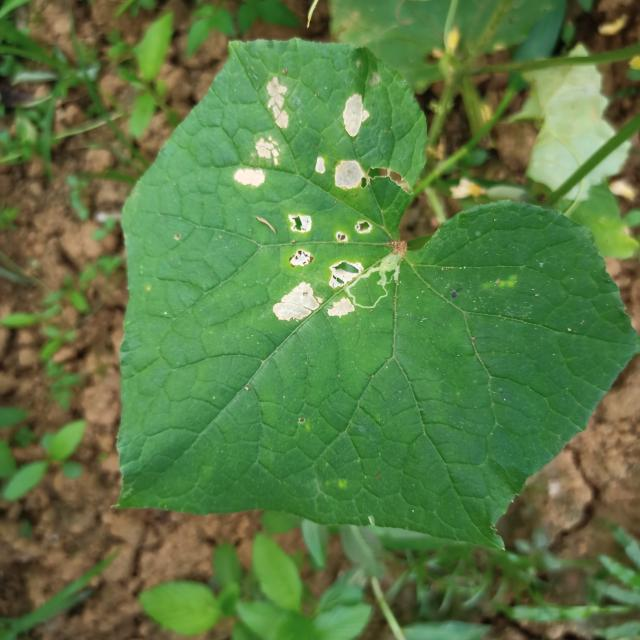disease_cucumber: (276, 213, 359, 322), (234, 77, 290, 187), (316, 92, 366, 195)
